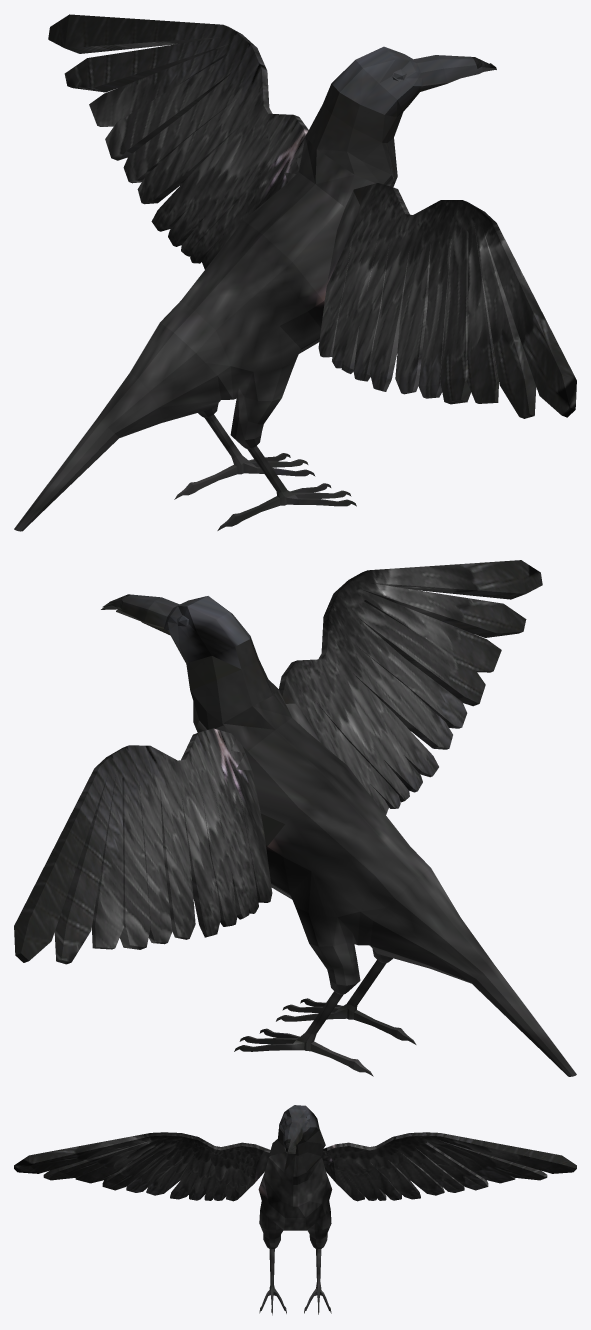
Rendered from six.obj.
3 views of the same model, one above another, from view 1: azimuth 30°, elevation 25°; view 2: azimuth 150°, elevation 25°; view 3: azimuth 270°, elevation 25° (orthographic). The views are drawn at different scales.
Parts seen in each view (by area): view 1: Cylinder; view 2: Cylinder; view 3: Cylinder.
Part boxes in pixels (x1,y1,x2,y2): Cylinder: [14, 14, 576, 531]; Cylinder: [14, 560, 576, 1076]; Cylinder: [14, 1105, 576, 1315].
Bounding box in the file's own units: 0.9941 × 0.8259 × 1.88.
